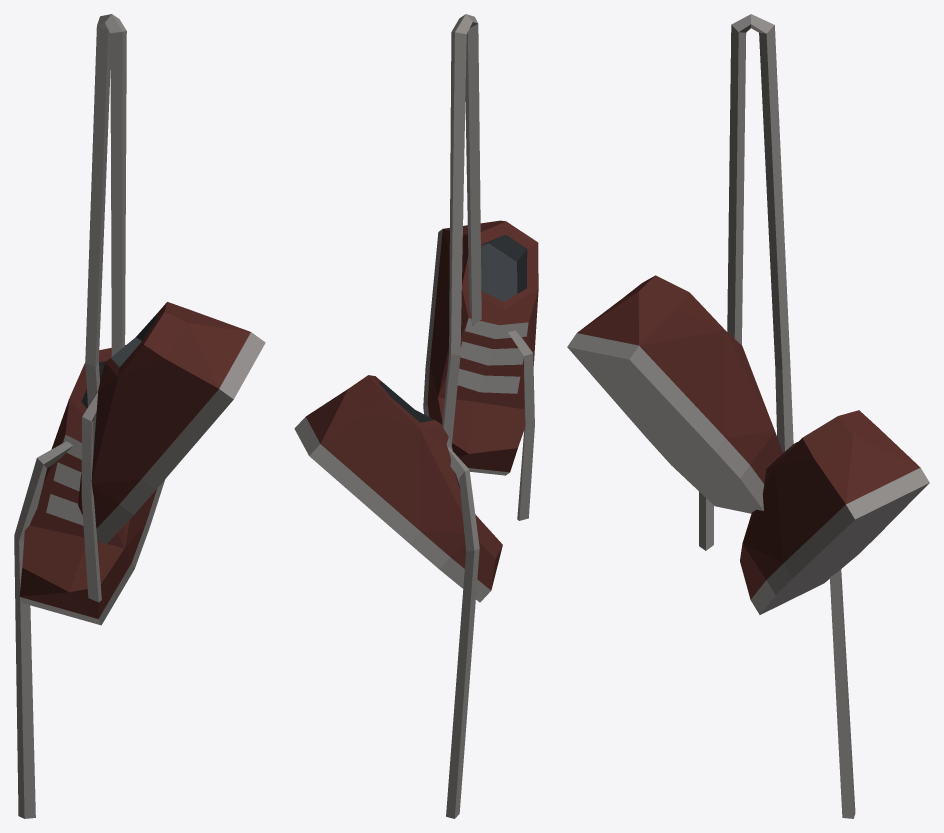
File: SM_Prop_Hanging_Shoes_01.glb
3 renders of one model, left to right at view 1: azimuth 30°, elevation 25°; view 2: azimuth 150°, elevation 25°; view 3: azimuth 270°, elevation 25°, orthographic. The views are drawn at different scales.
Parts seen in each view (by area): view 1: SM_Prop_Hanging_Shoes_01; view 2: SM_Prop_Hanging_Shoes_01; view 3: SM_Prop_Hanging_Shoes_01.
Part boxes in pixels (bbox=[...]): SM_Prop_Hanging_Shoes_01: bbox=[14, 14, 265, 818]; SM_Prop_Hanging_Shoes_01: bbox=[294, 14, 538, 818]; SM_Prop_Hanging_Shoes_01: bbox=[567, 14, 929, 818].
Size of the model in its own units: 0.3449 by 1.4 by 0.5617.
Materials: 1 (1 with a texture image).
